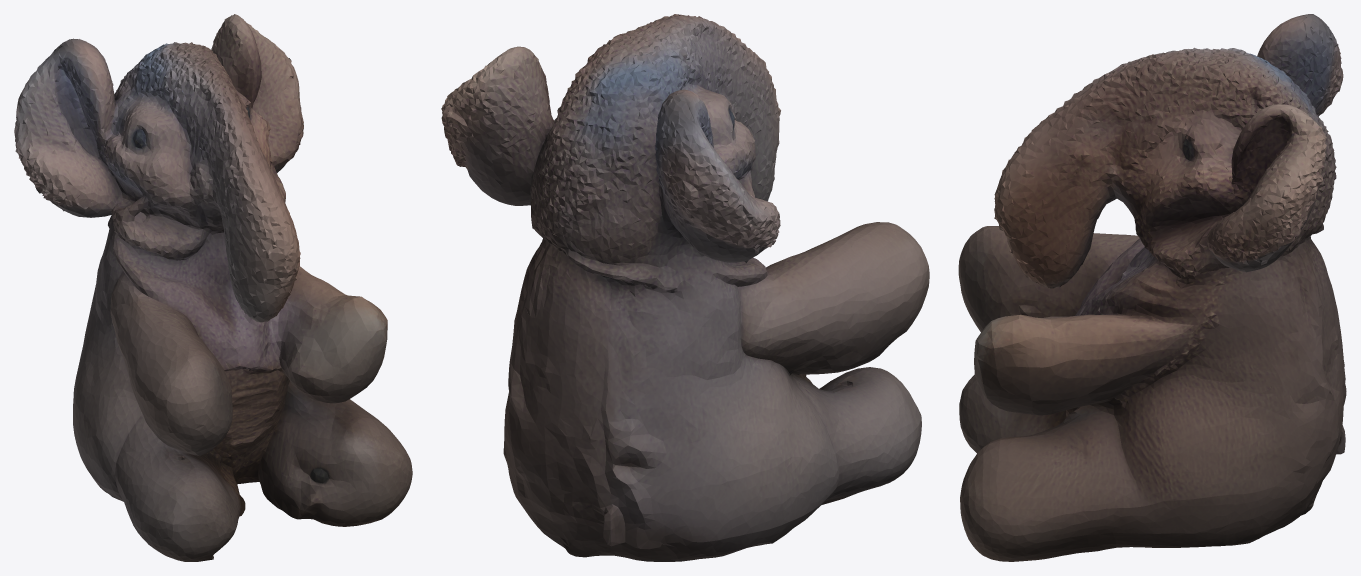
File: elephant_processed.glb
The picture shows the model from 3 angles, left to right: view 1: azimuth 30°, elevation 25°; view 2: azimuth 150°, elevation 25°; view 3: azimuth 270°, elevation 25°; orthographic projection. The views are drawn at different scales.
Visible parts, largest first — view 1: world; view 2: world; view 3: world.
Boxes of the visible parts, x1,y1,x2,y2 form: world: (14, 14, 412, 561); world: (441, 14, 929, 561); world: (958, 14, 1346, 561).
Size of the model in its own units: 0.6766 by 0.9947 by 0.7601.
1 material, 1 textured.
